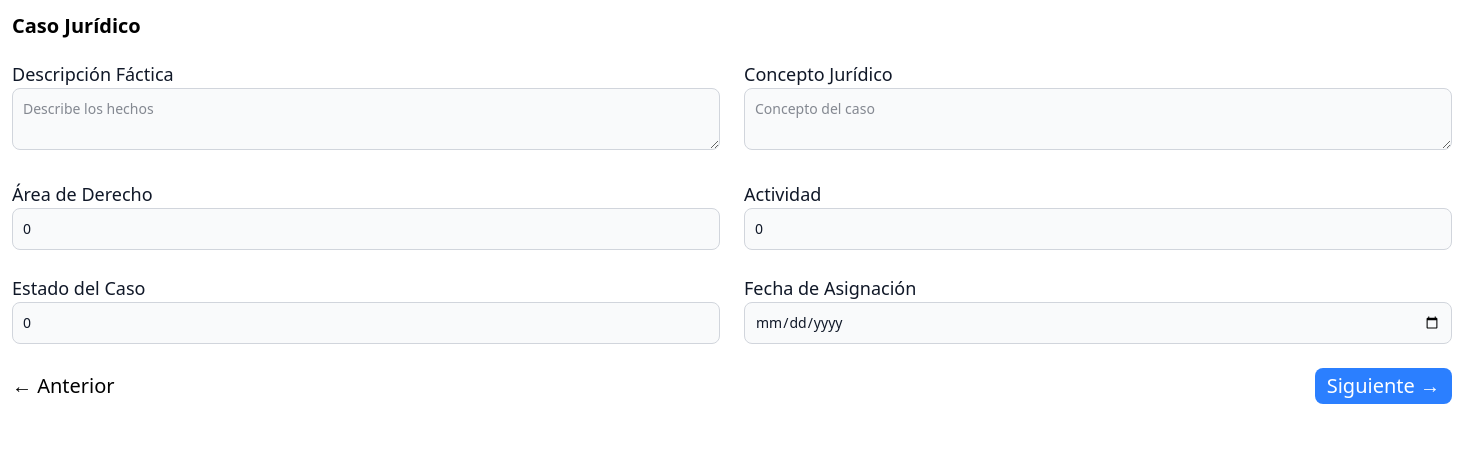
Test case: CasoJuridicoForm › muestra error al intentar enviar vacío
Click the button "Siguiente →": [1383, 386] box [1315,368,1452,404]
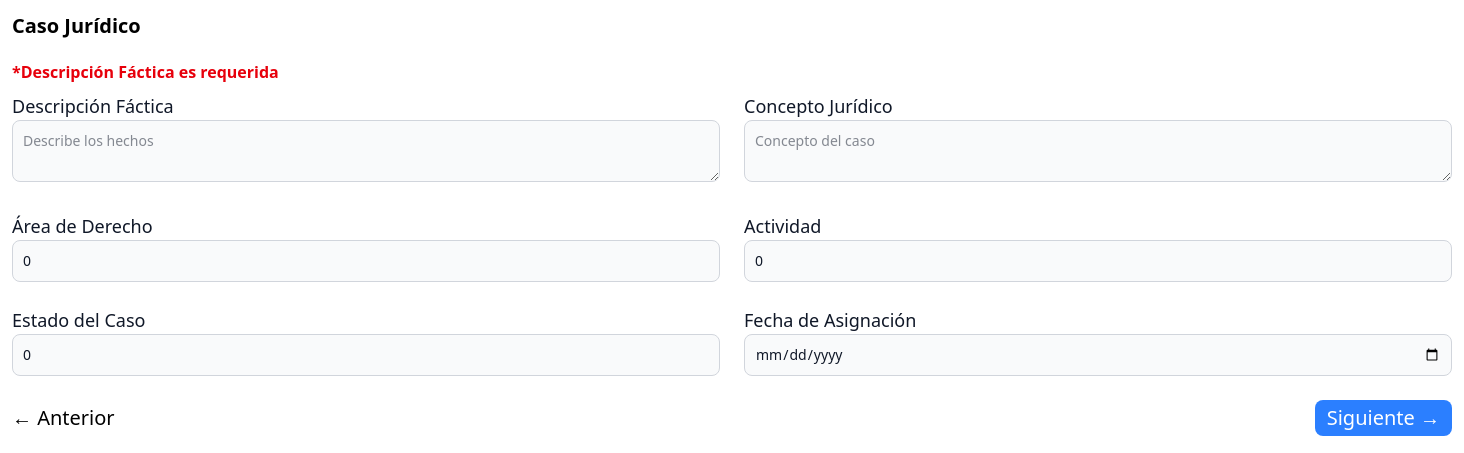
Check: the text "*Descripción Fáctica es requerida" is shown, box [12,61,279,83]
